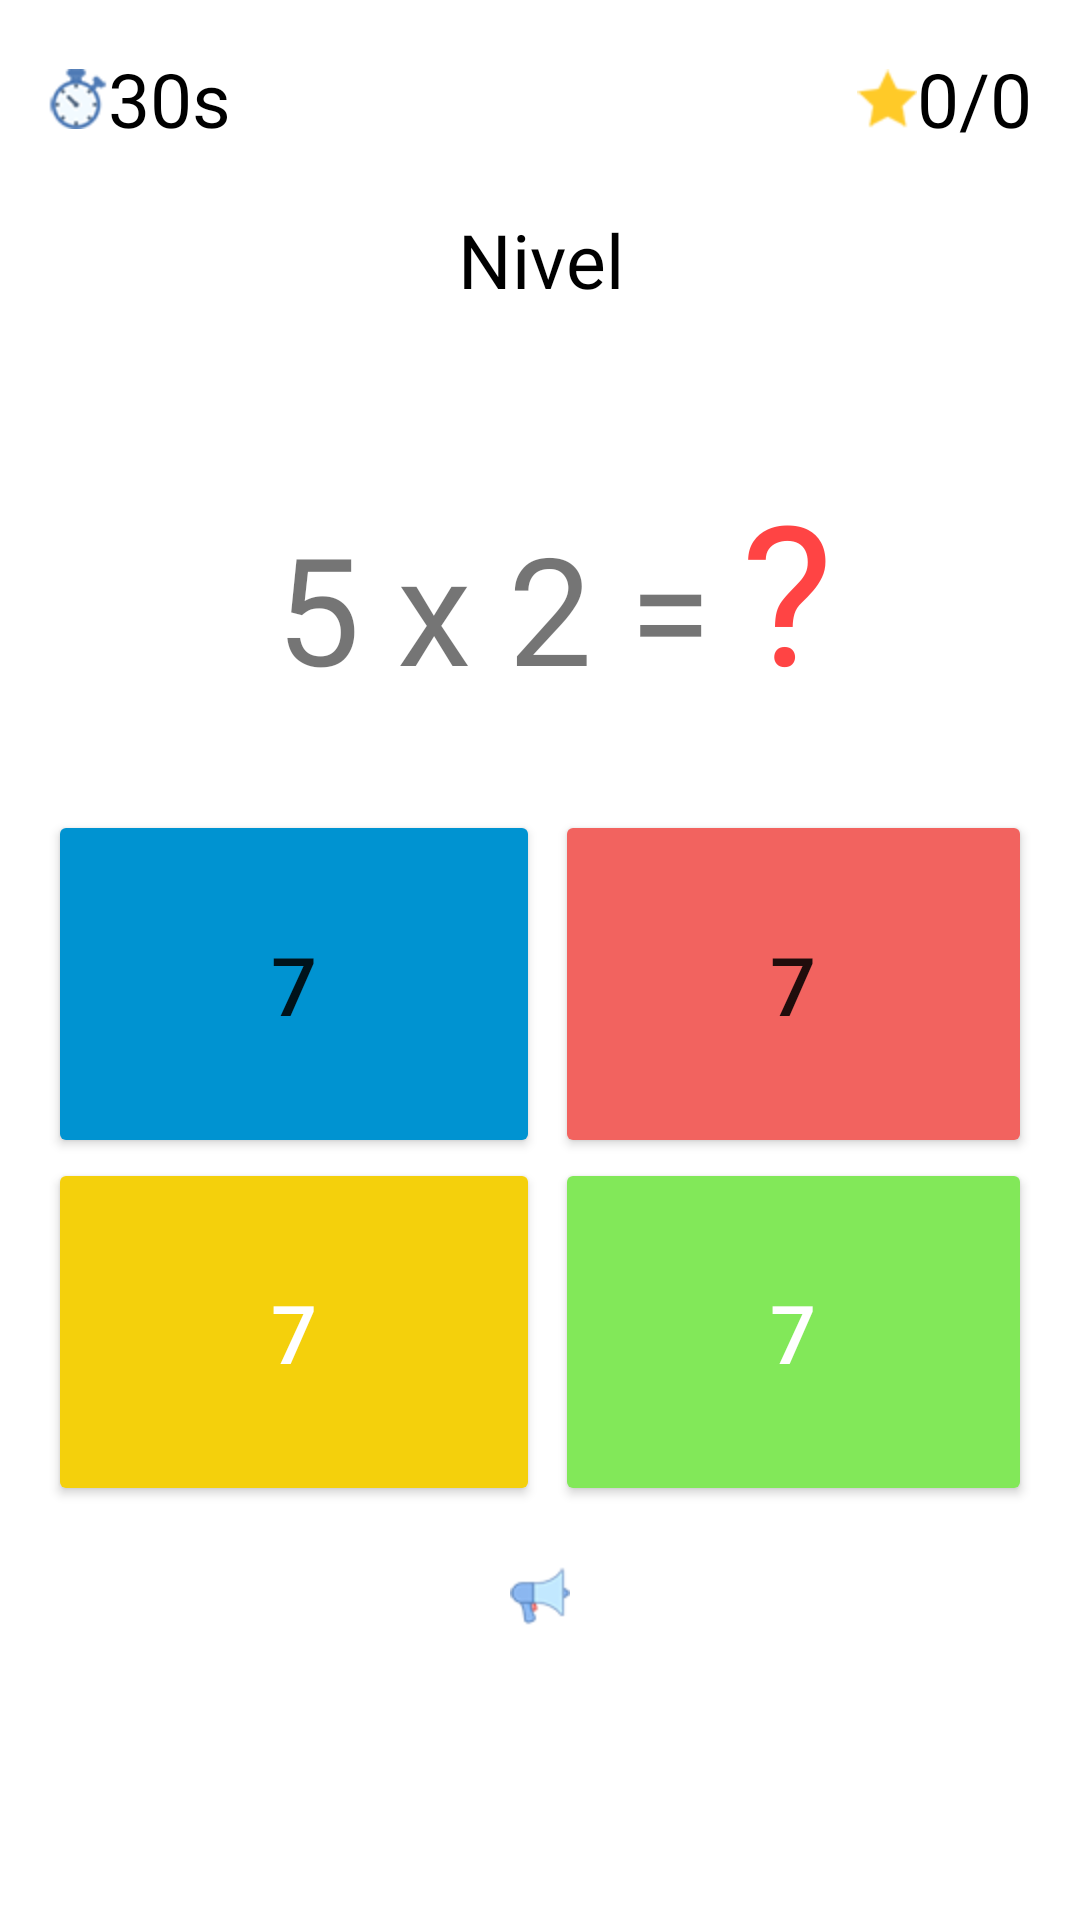

Icons on this 1080×1920 Android screen, each with its box as box=[x1, y1, x2, y2]:
loudspeaker: box=[510, 1568, 570, 1624]
star: box=[857, 69, 917, 127]
stopwatch: box=[49, 69, 107, 129]
